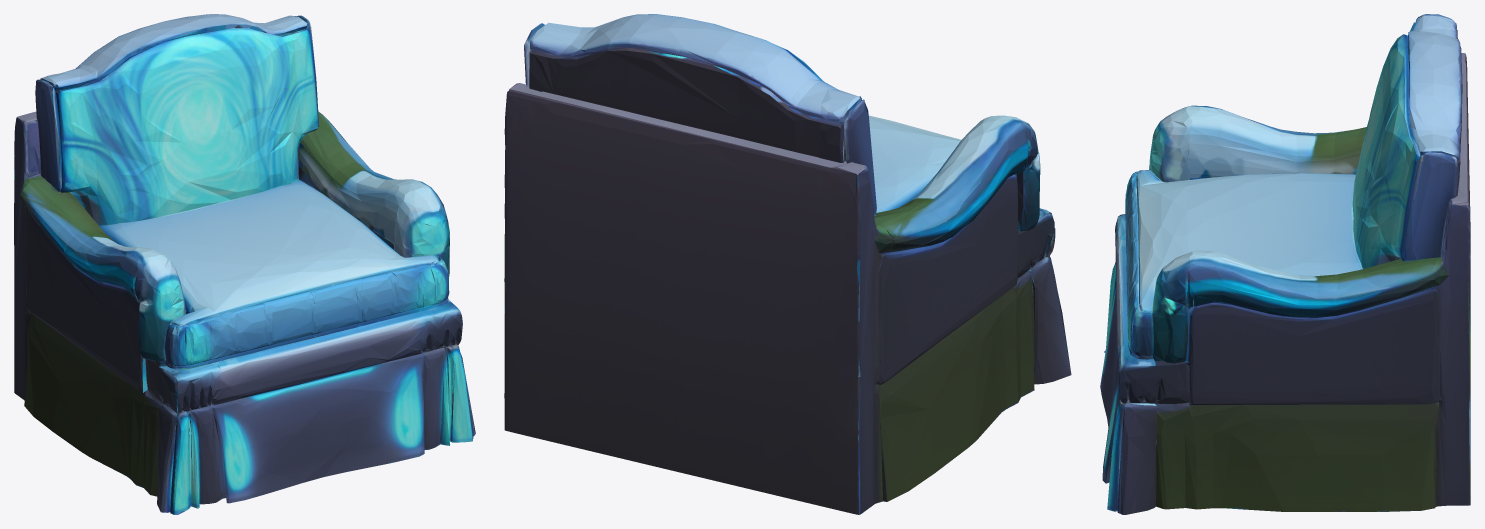
Rendered from edited_mesh.glb.
The picture shows the model from 3 angles, left to right: view 1: azimuth 30°, elevation 25°; view 2: azimuth 150°, elevation 25°; view 3: azimuth 270°, elevation 25°; orthographic projection. The views are drawn at different scales.
Visible parts, largest first — view 1: normalized_model.obj; view 2: normalized_model.obj; view 3: normalized_model.obj.
Part boxes in pixels (x1,y1,x2,y2): normalized_model.obj: [14, 14, 475, 514]; normalized_model.obj: [504, 14, 1071, 514]; normalized_model.obj: [1100, 14, 1470, 514].
Bounding box in the file's own units: 1.3 × 1.35 × 1.21.
Materials: 1 (1 with a texture image).
